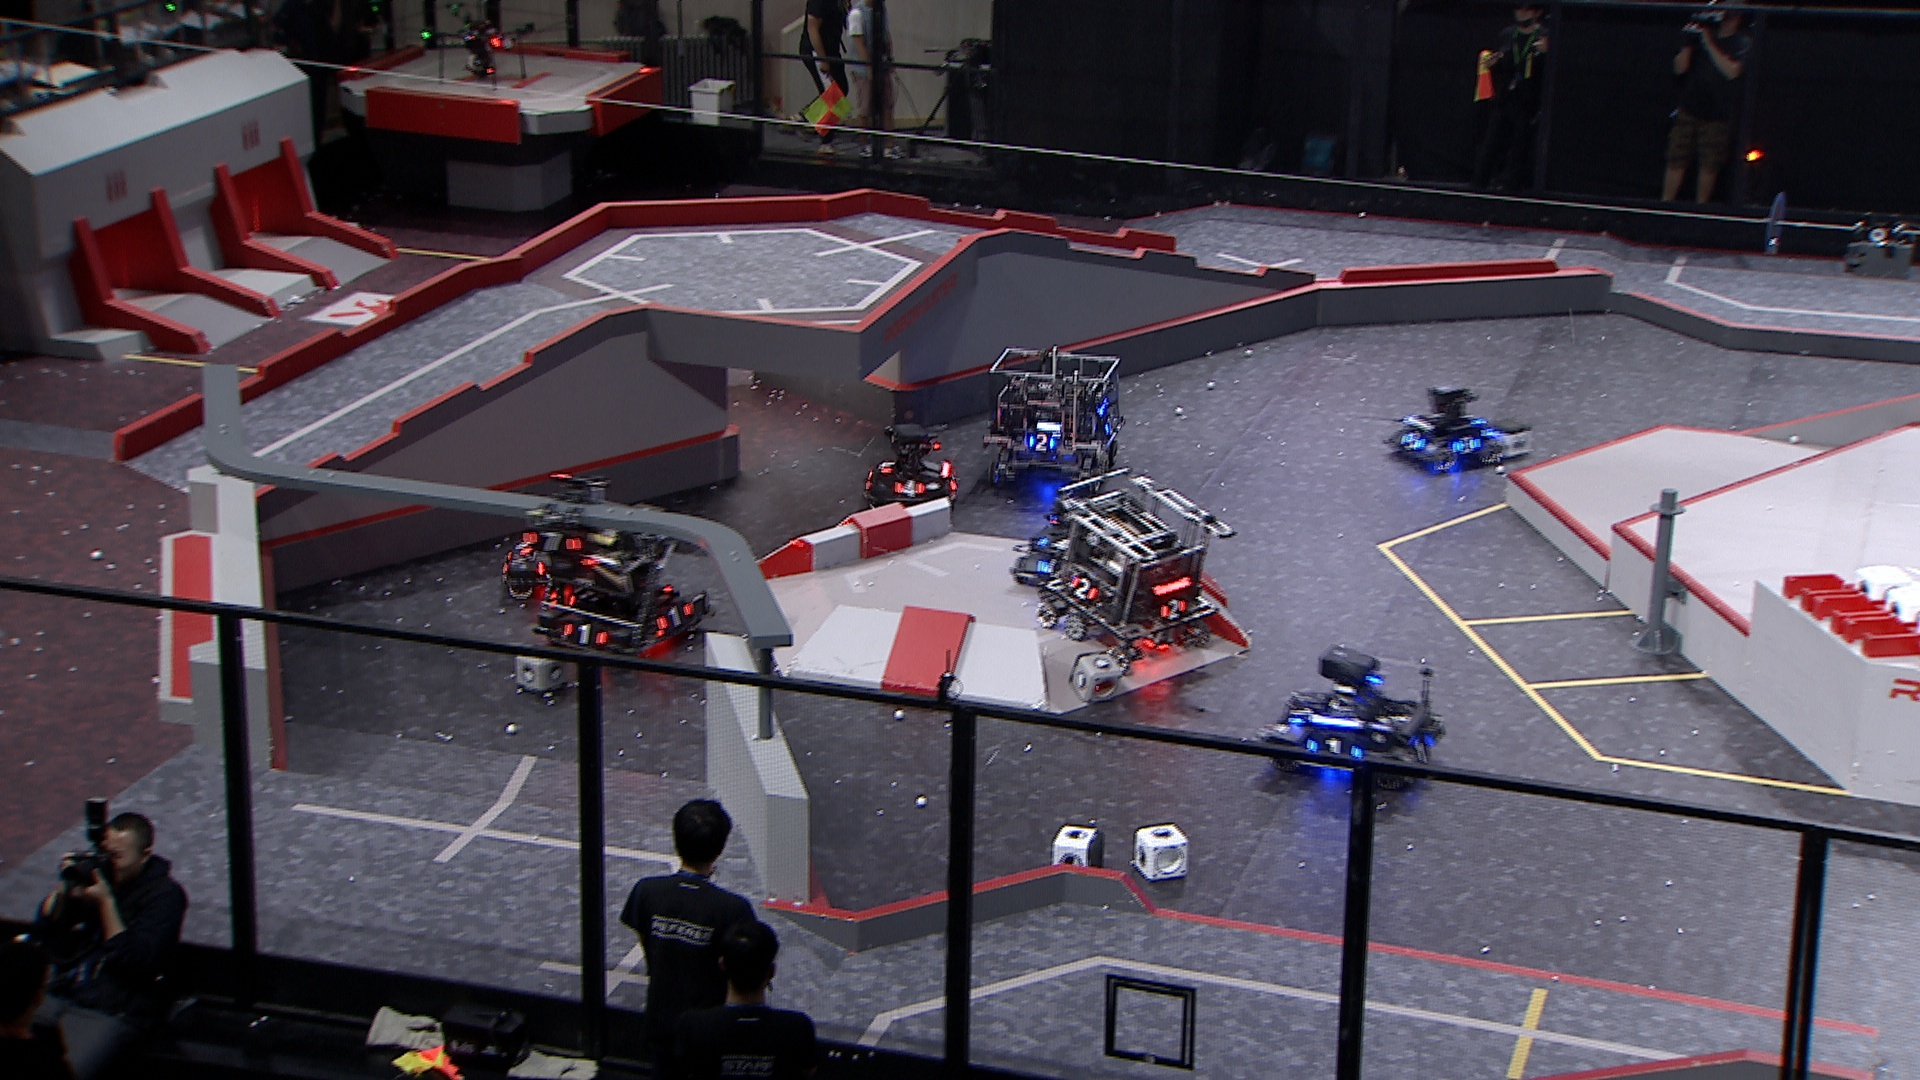armor: (1305, 736, 1364, 761), (524, 531, 584, 555), (560, 622, 612, 650), (655, 604, 695, 632), (1155, 597, 1192, 621), (1069, 576, 1100, 603), (1414, 735, 1437, 766), (1026, 433, 1058, 455), (891, 479, 927, 498), (1452, 436, 1482, 458), (1286, 703, 1313, 725), (1396, 433, 1427, 451), (1036, 535, 1073, 550), (1035, 559, 1060, 576), (877, 460, 897, 473), (1101, 418, 1116, 433)
car: (1034, 471, 1233, 665), (1257, 642, 1449, 796), (534, 505, 717, 662), (982, 347, 1130, 496), (1382, 382, 1509, 471), (500, 509, 607, 600), (861, 423, 964, 513), (1007, 510, 1095, 585)
watcher: (517, 471, 615, 579)
